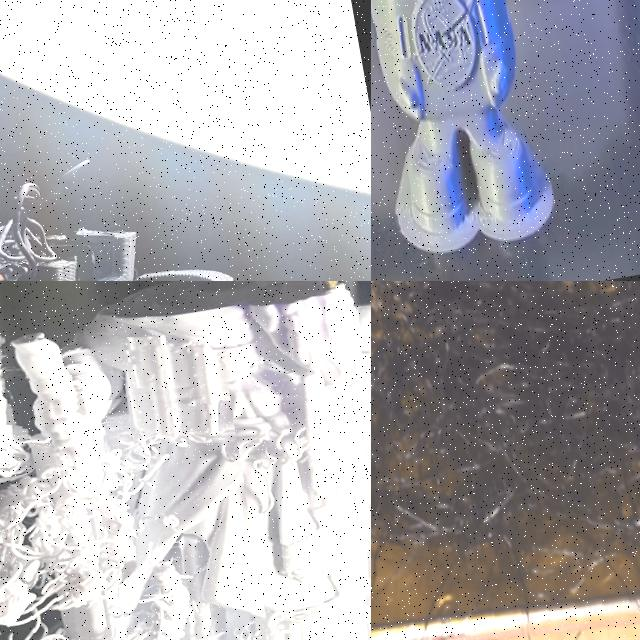spaghetti: (371, 281, 640, 640), (0, 371, 309, 640), (0, 186, 75, 281)
